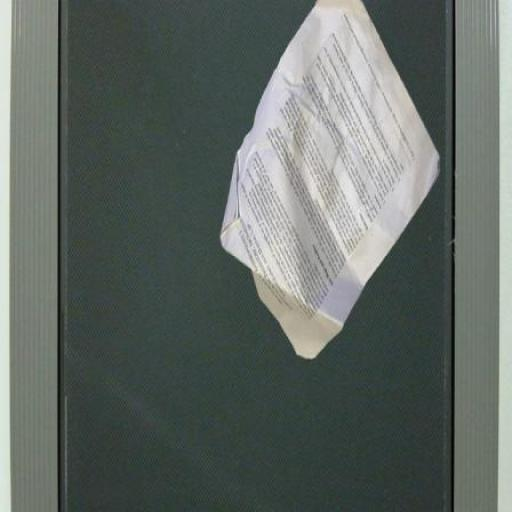paper: (193, 0, 454, 407)
